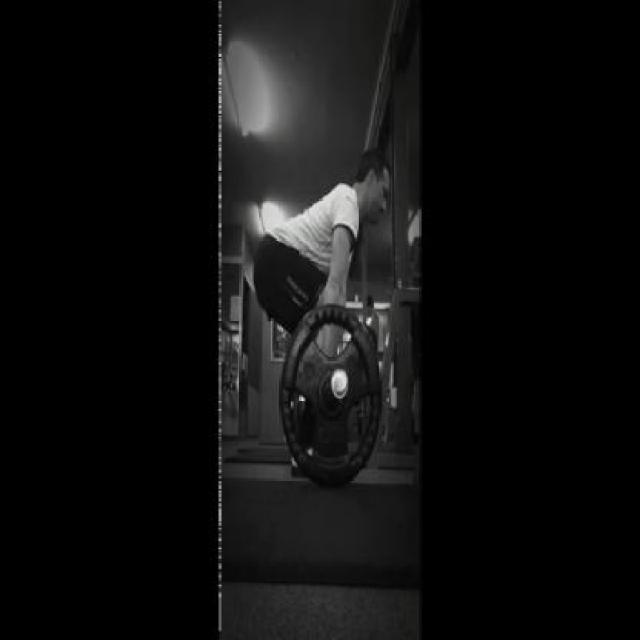Barbell: (328, 366, 350, 402)
